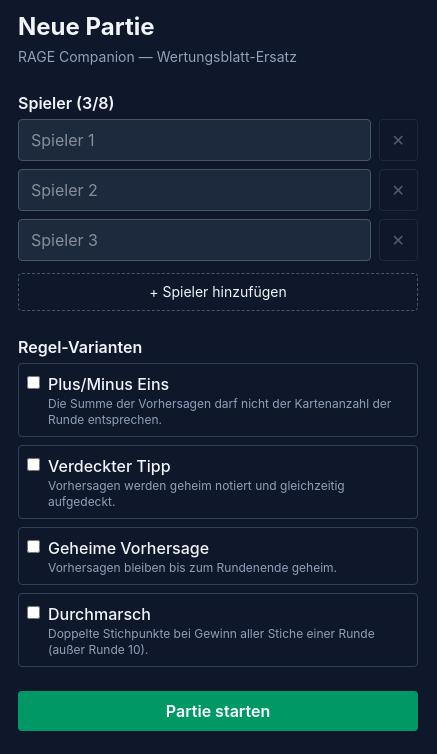
Test case: PlayerSetupScreen › shows an error and does not submit when a player name is missing
The width and height of the screenshot is (437, 754).
Step 1. Type "Christine" into the field named "Name Spieler 1" → (194, 140), box x1=18 y1=119 x2=371 y2=161
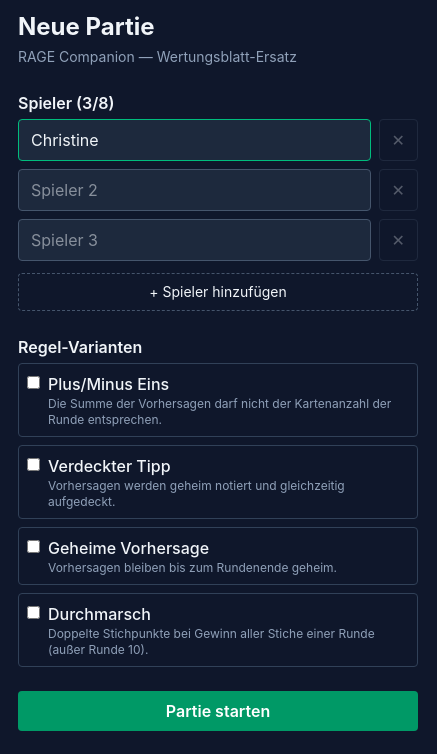
Step 2. Type "Kirsten" into the field named "Name Spieler 2" → (194, 190), box x1=18 y1=169 x2=371 y2=211
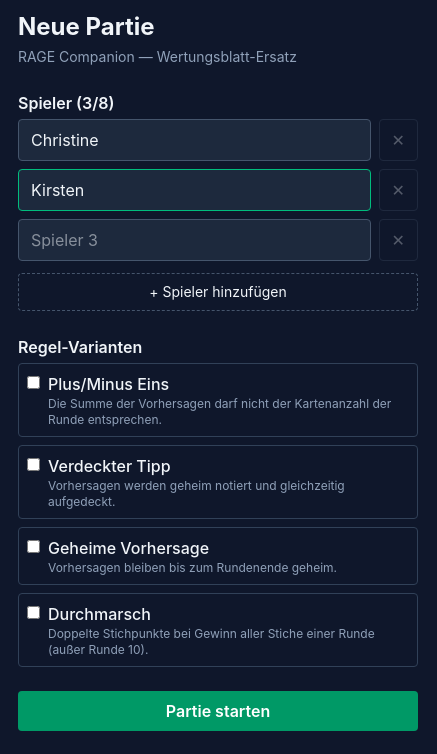
Step 3. Click the button "Partie starten" → (218, 711), box x1=18 y1=691 x2=418 y2=731
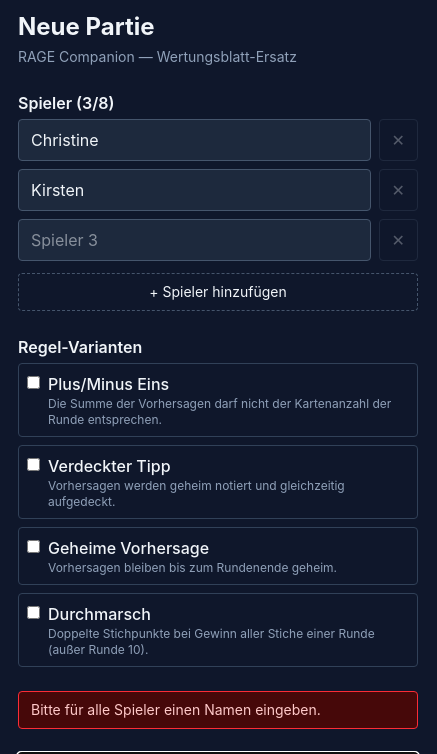
Now the message shows "Namen eingeben", box x1=31 y1=701 x2=321 y2=718
